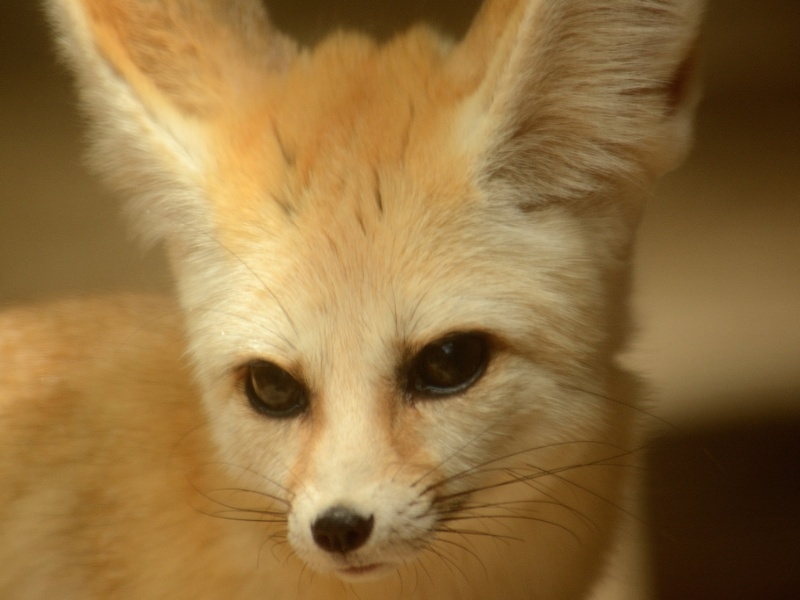fox: (68, 13, 679, 585)
